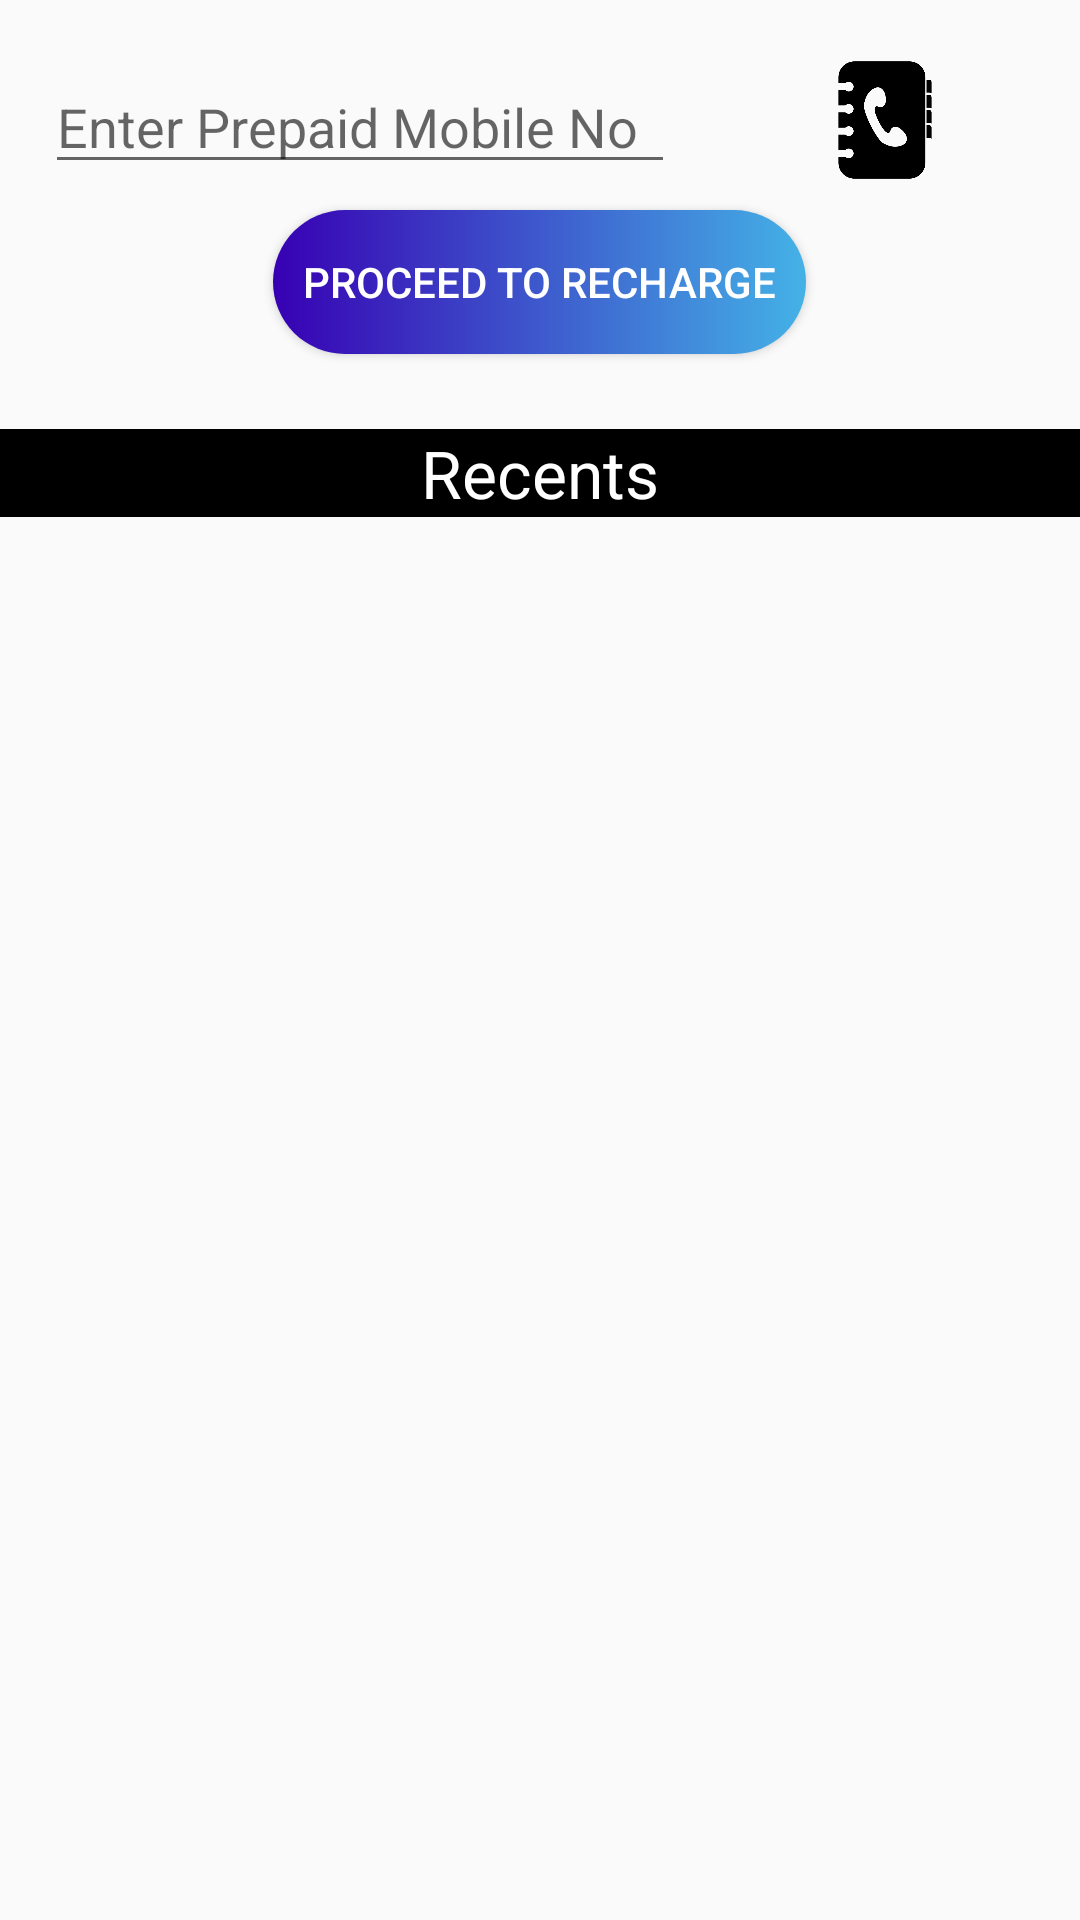

Named icons in this screenshot (1080×1920) and their bounding boxes, [x1,y1,x2,y2]:
contacts: [838,61,932,179]
